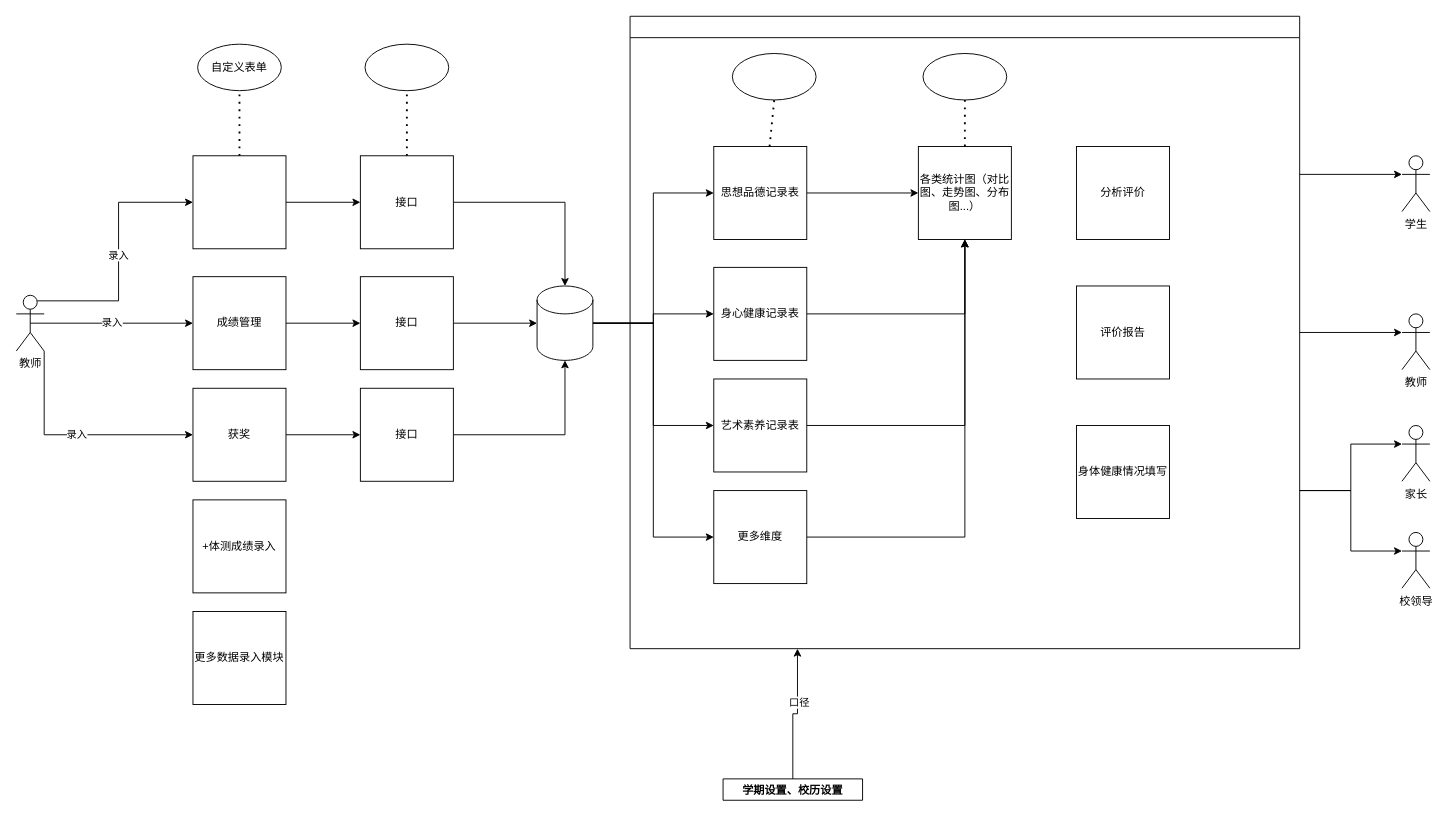
The diagram is 1449 pixels wide and 817 high, and some of its shapes have lost their labels. The box of each missing label's shape, as (x1, y1, x2, y2) in pixels:
学生综合素质数据模型: (536, 285, 593, 360)
学生综合素质评价系统: (629, 15, 1300, 649)
德育巡查: (192, 155, 286, 249)
接口管理: (364, 43, 449, 91)
维度管理 字段管理: (731, 53, 816, 100)
自定义图表: (922, 53, 1007, 100)
